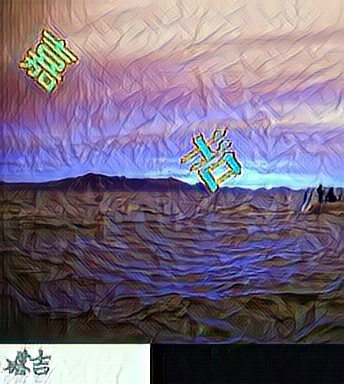BCAA: (178, 126, 245, 190)
BCCE: (16, 28, 83, 92)
